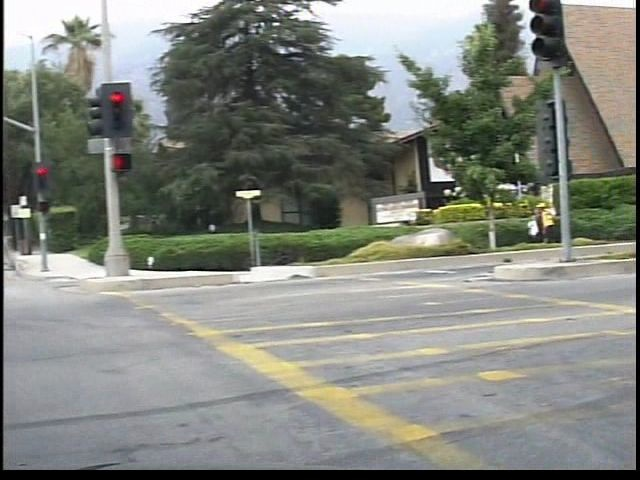person: (546, 192, 569, 247)
